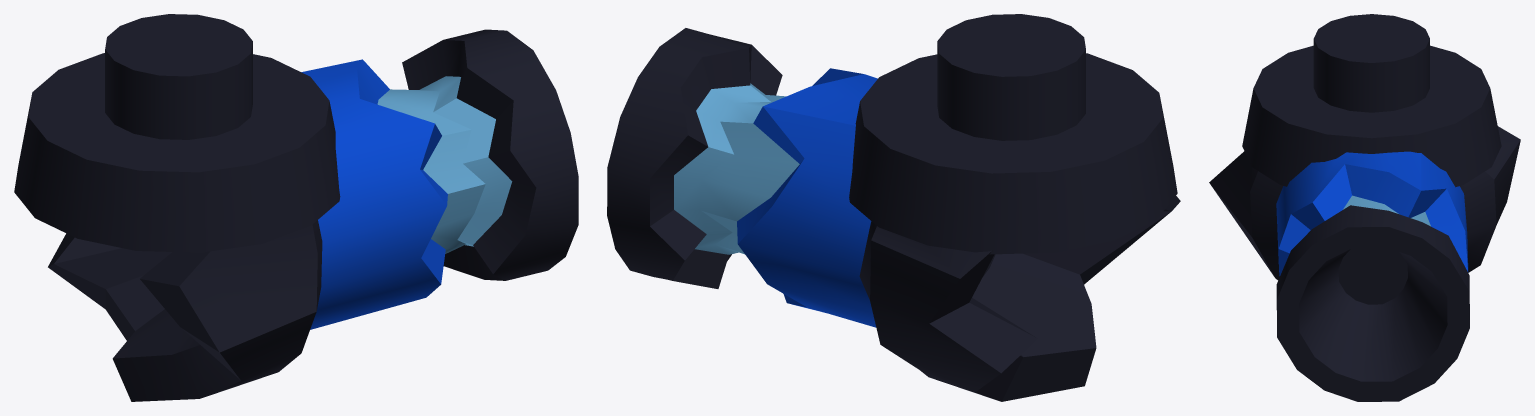
The model's file is body.obj.
The picture shows the model from 3 angles, left to right: view 1: azimuth 30°, elevation 25°; view 2: azimuth 150°, elevation 25°; view 3: azimuth 270°, elevation 25°; orthographic projection. The views are drawn at different scales.
Visible parts, largest first — view 1: Circle; view 2: Circle; view 3: Circle.
Boxes of the visible parts, bbox=[...] form: Circle: bbox=[14, 14, 578, 401]; Circle: bbox=[607, 14, 1180, 401]; Circle: bbox=[1209, 14, 1520, 401].
Size of the model in its own units: 1.06 by 0.7036 by 0.7616.
